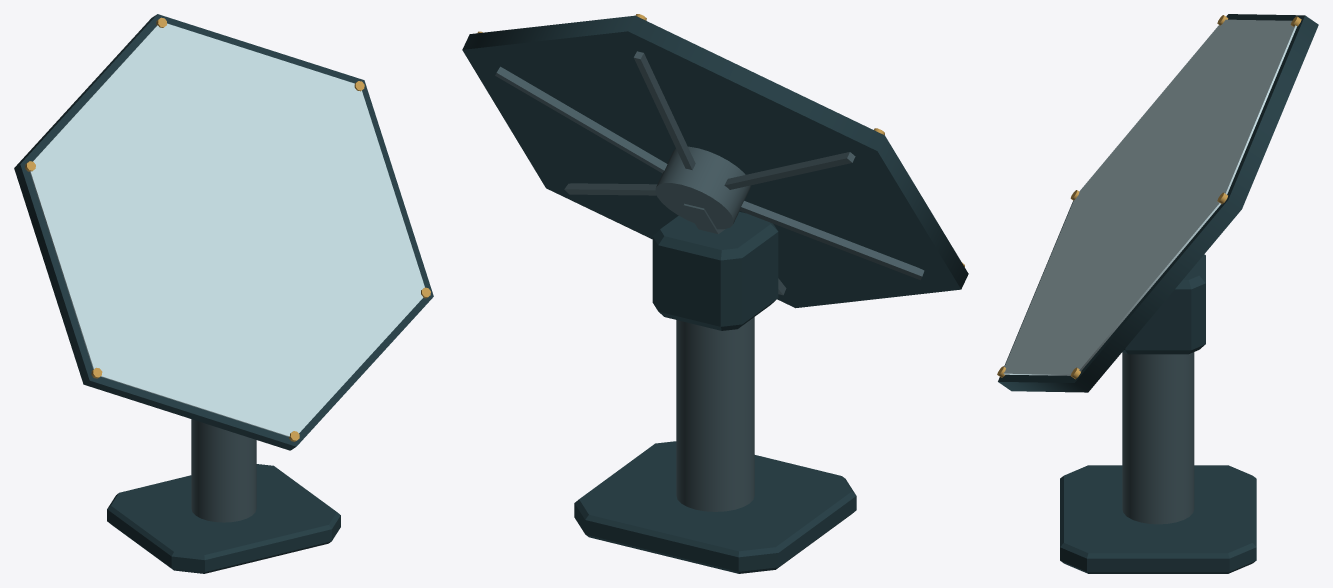
The model's file is mirror_d0_lod0.meshopt.glb.
3 views of the same model, side by side, from view 1: azimuth 30°, elevation 25°; view 2: azimuth 150°, elevation 25°; view 3: azimuth 270°, elevation 25° (orthographic). The views are drawn at different scales.
Parts seen in each view (by area): view 1: OPTICAL_FACE, MIRROR_PEDESTAL, MIRROR_BACK; view 2: MIRROR_BACK, MIRROR_PEDESTAL; view 3: OPTICAL_FACE, MIRROR_PEDESTAL, MIRROR_BACK.
Boxes of the visible parts, x1=… form: OPTICAL_FACE: x1=30, y1=23, x2=424, y2=436; MIRROR_PEDESTAL: x1=107, y1=419, x2=340, y2=573; MIRROR_BACK: x1=14, y1=14, x2=433, y2=450; MIRROR_BACK: x1=462, y1=14, x2=968, y2=308; MIRROR_PEDESTAL: x1=574, y1=212, x2=856, y2=573; OPTICAL_FACE: x1=1003, y1=19, x2=1296, y2=375; MIRROR_PEDESTAL: x1=1060, y1=254, x2=1256, y2=573; MIRROR_BACK: x1=997, y1=14, x2=1318, y2=392.
Size of the model in its own units: 2.68 by 3.47 by 1.96.
